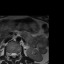CCS_normal: (13, 51, 14, 59)
LFS_stenosis: (17, 51, 19, 58)
LLS_normal: (14, 51, 17, 58)
RFS_normal: (8, 51, 11, 57)
RLS_normal: (11, 51, 13, 58)
